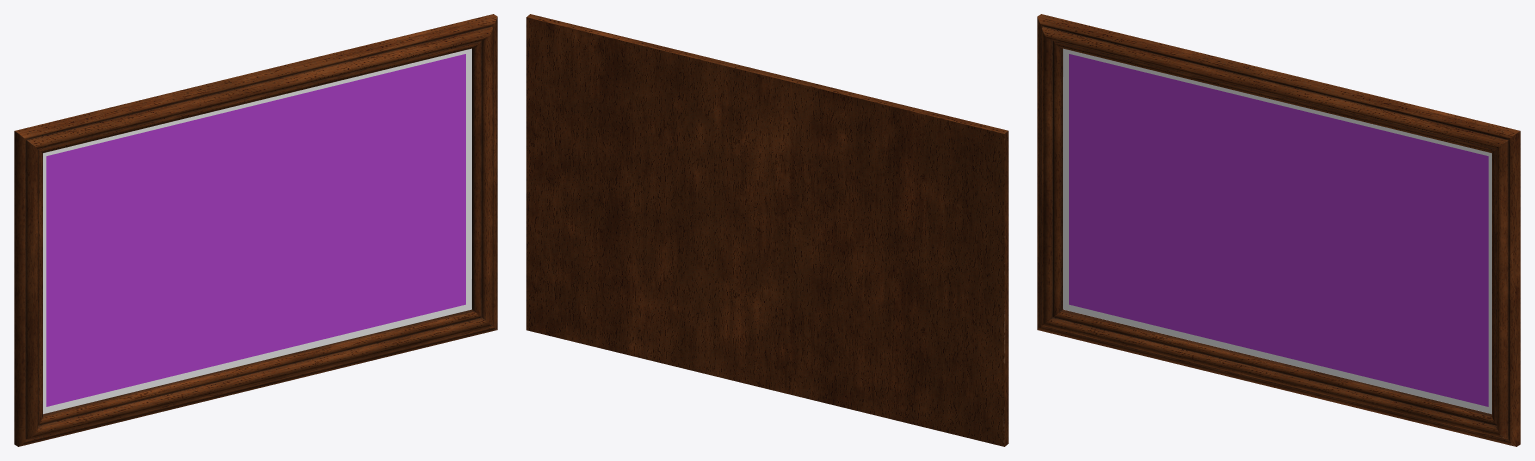
The model's file is Frames.FBX.
The picture shows the model from 3 angles, left to right: view 1: azimuth 30°, elevation 25°; view 2: azimuth 150°, elevation 25°; view 3: azimuth 330°, elevation 25°; orthographic projection.
Parts seen in each view (by area): view 1: Frames; view 2: Frames; view 3: Frames.
Part boxes in pixels (x1,y1,x2,y2): Frames: (14,14,497,446); Frames: (526,14,1008,446); Frames: (1037,14,1520,446).
Bounding box in the file's own units: 80 × 50.06 × 2.5.
